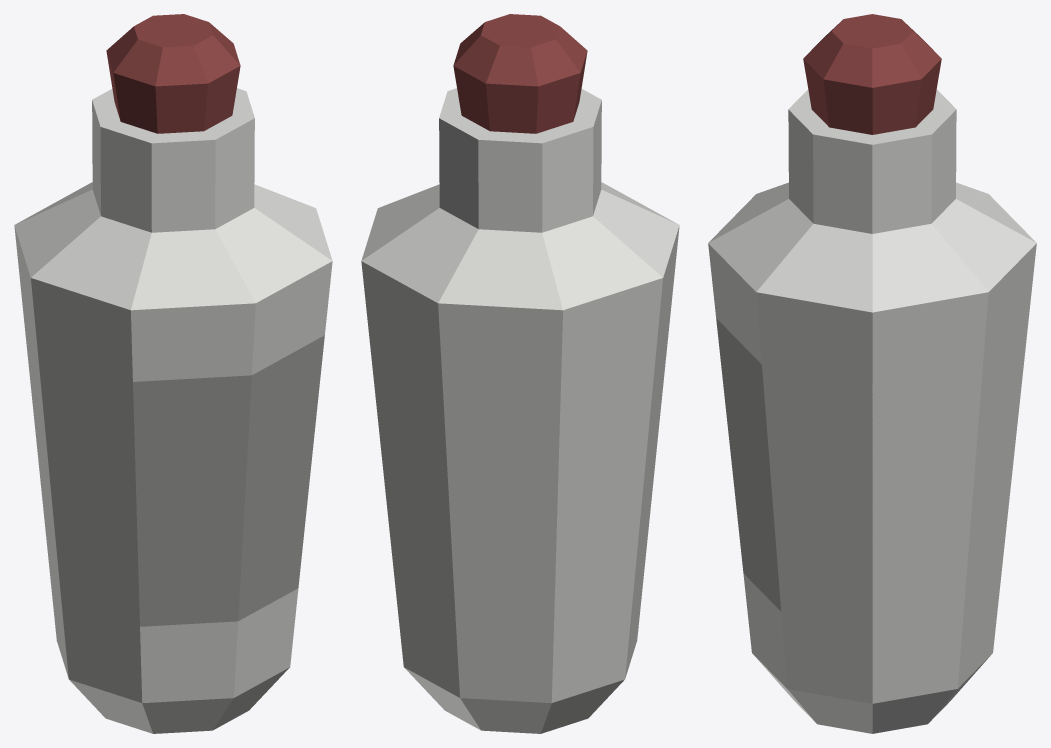
Rendered from Bottle_3_White.fbx.
3 renders of one model, left to right at view 1: azimuth 30°, elevation 25°; view 2: azimuth 150°, elevation 25°; view 3: azimuth 270°, elevation 25°, orthographic.
Parts seen in each view (by area): view 1: Bottle_3_White_Part_1, Bottle_3_White_Part_2, Bottle_3_White_Part_3; view 2: Bottle_3_White_Part_1, Bottle_3_White_Part_3; view 3: Bottle_3_White_Part_1, Bottle_3_White_Part_3, Bottle_3_White_Part_2.
Part boxes in pixels (box(x1,y1,x2,y2)): Bottle_3_White_Part_1: box(14, 88, 332, 733); Bottle_3_White_Part_2: box(133, 335, 324, 626); Bottle_3_White_Part_3: box(106, 14, 240, 133); Bottle_3_White_Part_1: box(361, 88, 679, 733); Bottle_3_White_Part_3: box(453, 14, 587, 133); Bottle_3_White_Part_1: box(708, 89, 1036, 733); Bottle_3_White_Part_3: box(803, 14, 941, 134); Bottle_3_White_Part_2: box(716, 318, 781, 611).
Size of the model in its own units: 13.35 by 30 by 13.35.
